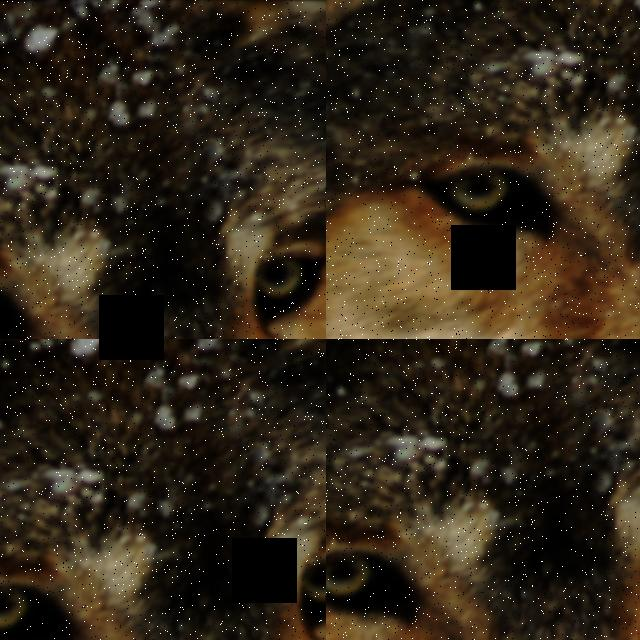wolf: (0, 0, 325, 339), (326, 339, 640, 640), (0, 339, 326, 555), (326, 0, 640, 156)
